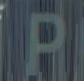Parking: (11, 4, 72, 72)
